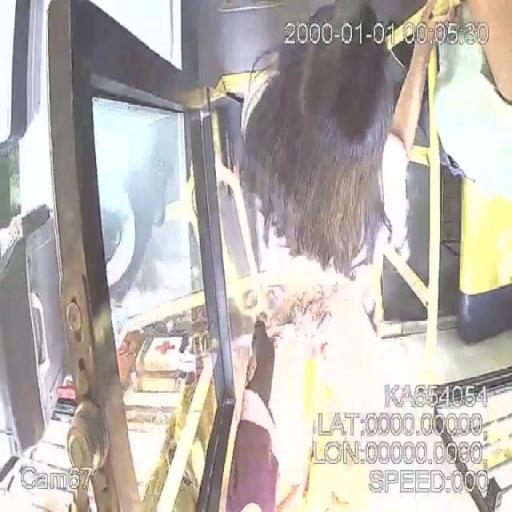persona: (231, 2, 448, 307), (223, 310, 286, 511)
